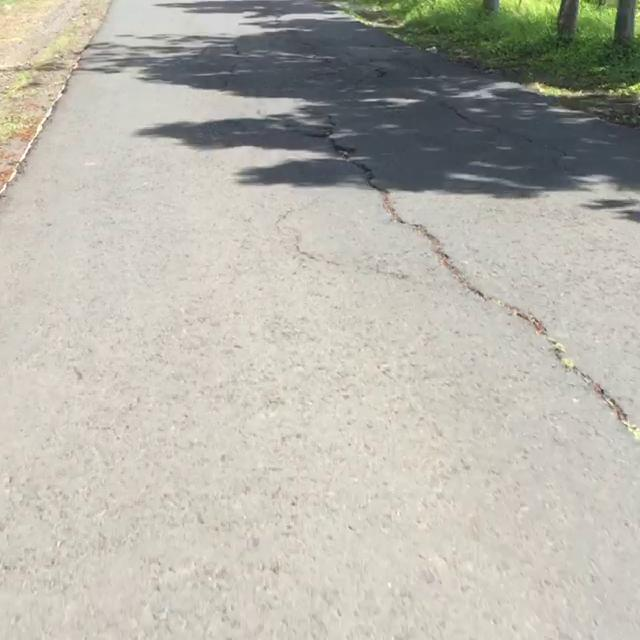retak_memanjang: (322, 127, 640, 640)
